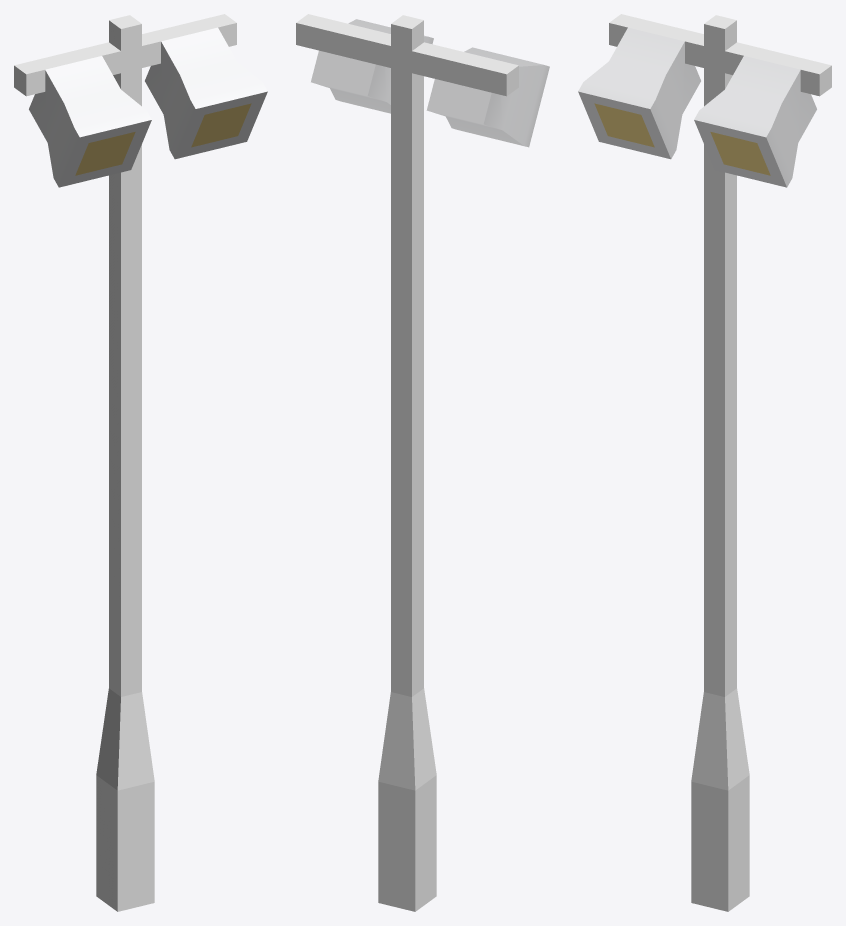
File: Light Post.glb
3 views of the same model, side by side, from view 1: azimuth 30°, elevation 25°; view 2: azimuth 150°, elevation 25°; view 3: azimuth 330°, elevation 25° (orthographic).
Parts seen in each view (by area): view 1: lightPost_exclusive(Clone); view 2: lightPost_exclusive(Clone); view 3: lightPost_exclusive(Clone).
Part boxes in pixels (x1,y1,x2,y2): lightPost_exclusive(Clone): [14, 14, 267, 911]; lightPost_exclusive(Clone): [296, 14, 549, 911]; lightPost_exclusive(Clone): [578, 14, 831, 911].
Bounding box in the file's own units: 0.2 × 0.7957 × 0.0971.
